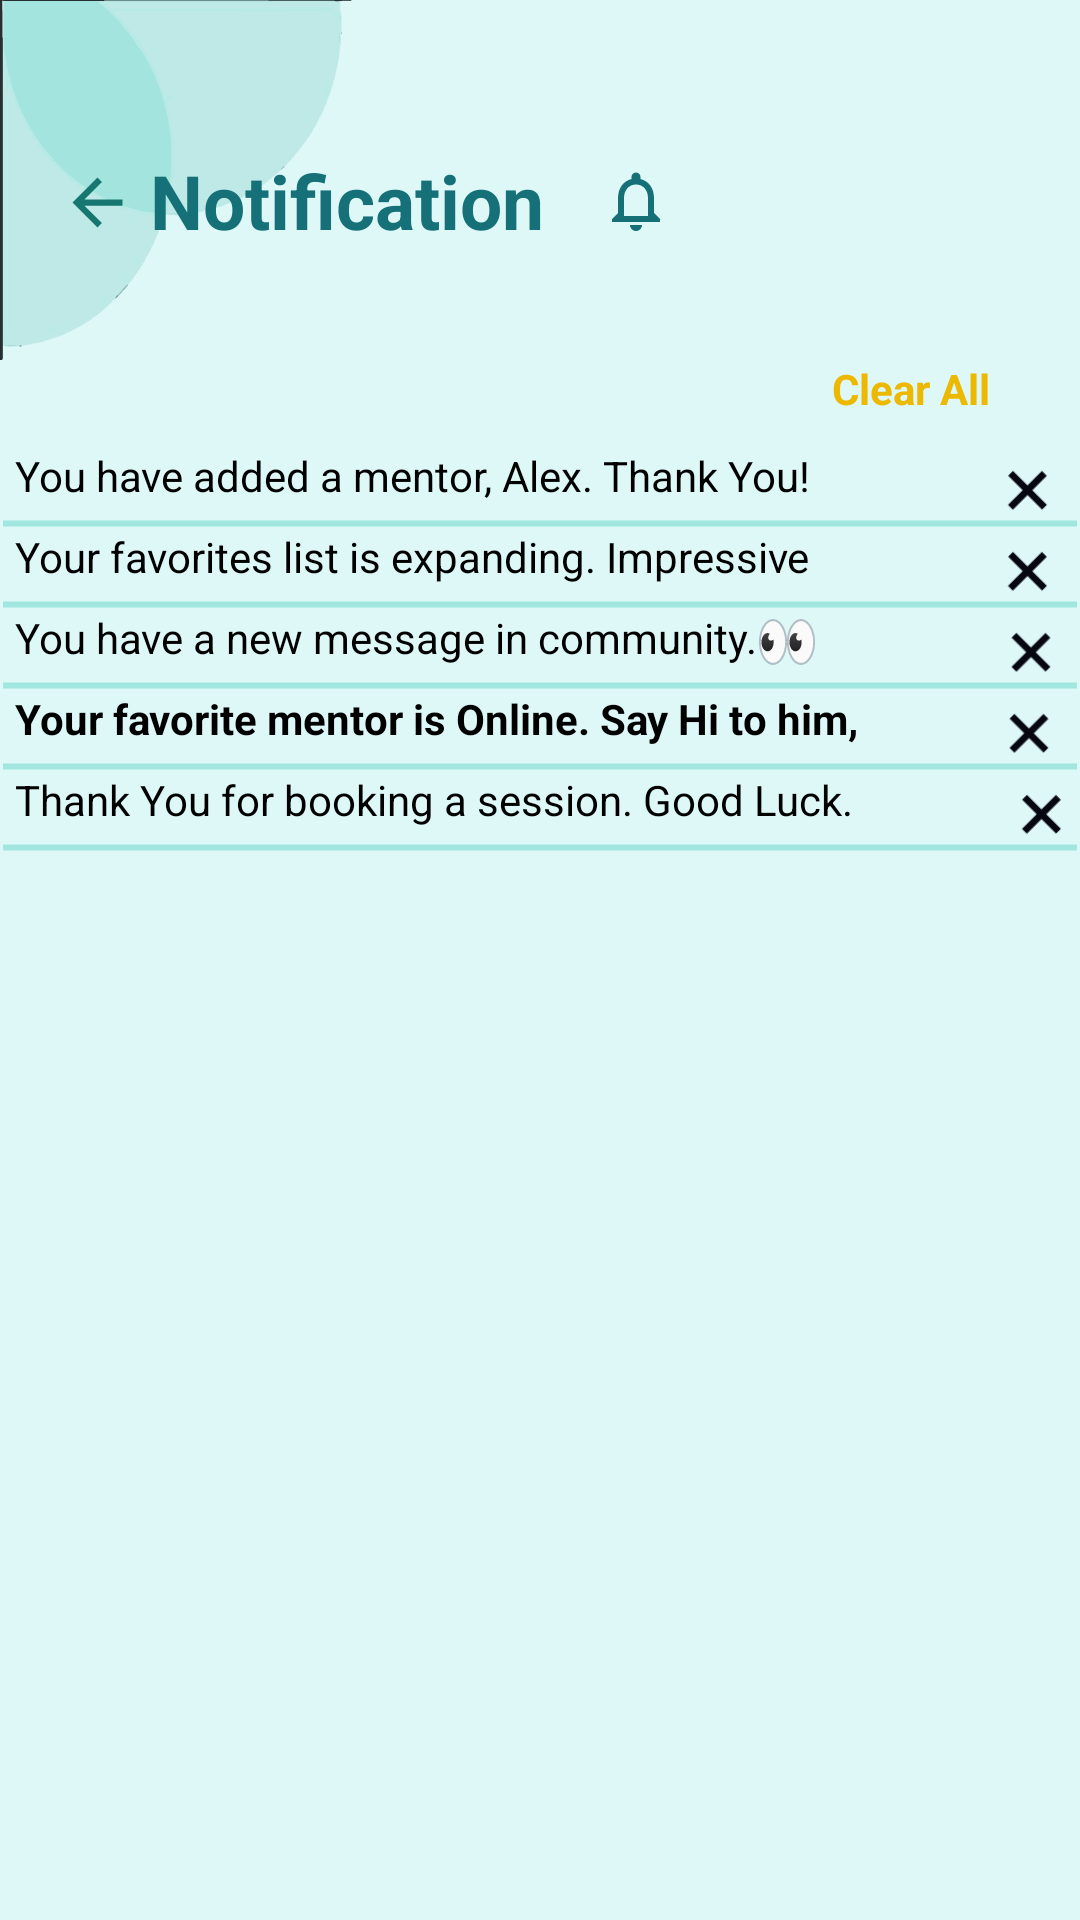

Screen size 1080w x 1920h. Icon name, then its center in pixels as (x=x, y=y):
eyes: (x=787, y=642)
